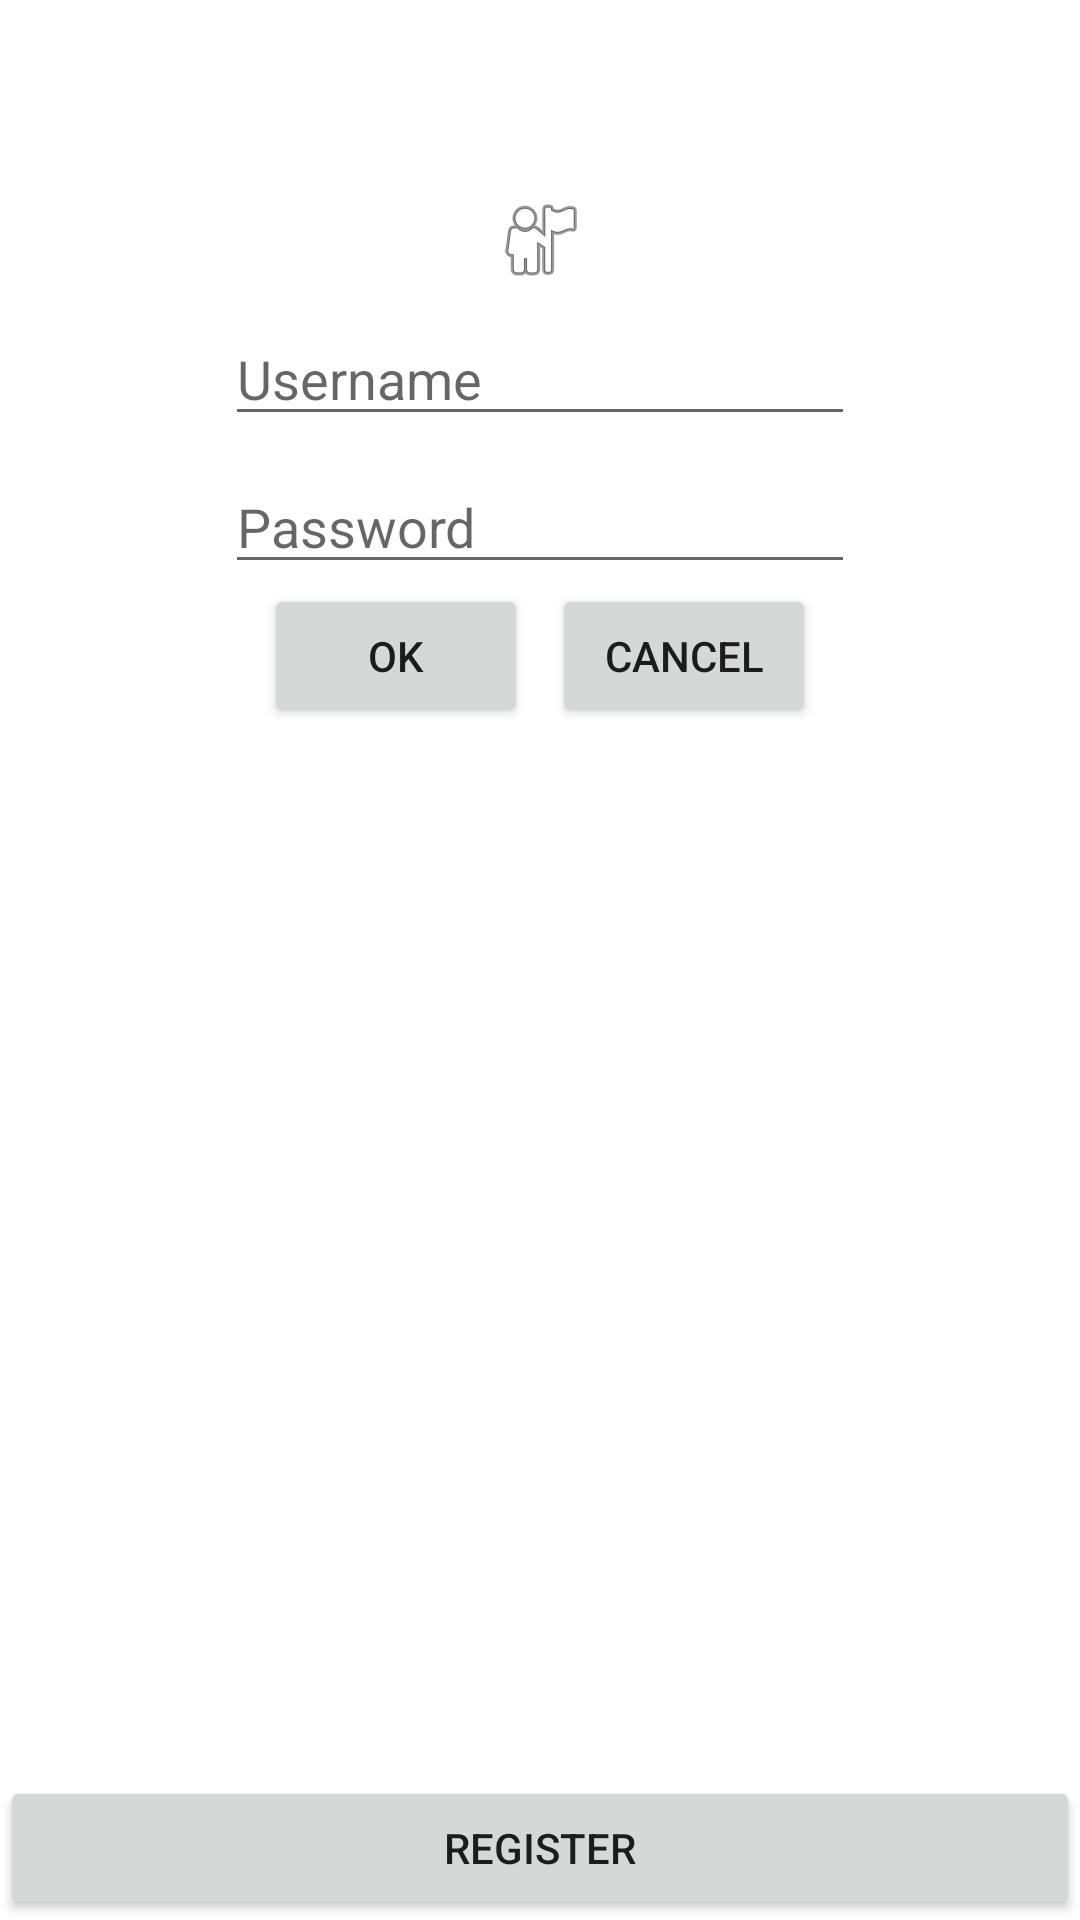

Locate icon controls on the screen. Image size 1080x1920, boxes as box=[x1, y1, x2, y2].
myplaces: box=[505, 204, 577, 276]
